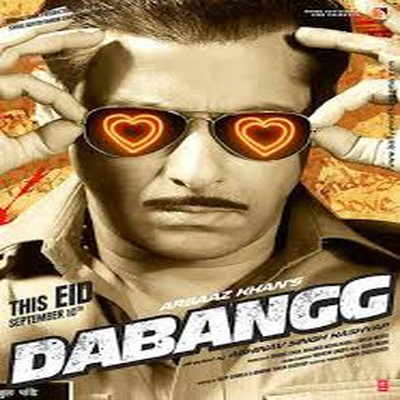eywear: (74, 68, 326, 193)
